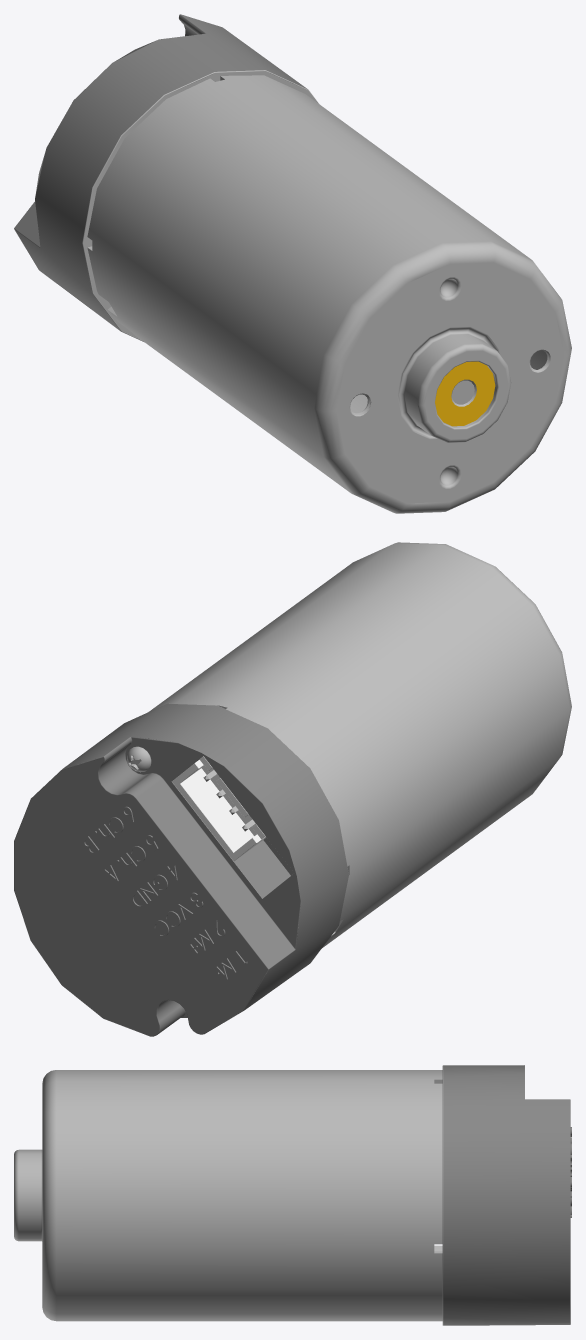
Rendered from Motor_Part.gltf.
The picture shows the model from 3 angles, top to bottom: view 1: azimuth 30°, elevation 25°; view 2: azimuth 150°, elevation 25°; view 3: azimuth 270°, elevation 25°; orthographic projection. The views are drawn at different scales.
Visible parts, largest first — view 1: mesh2844, mesh2820, mesh2875, mesh2821, mesh2812, mesh2815, mesh2873, mesh2817, mesh2816, mesh2818, mesh2874; view 2: mesh2844, mesh3040, mesh2875, mesh2899, mesh2911, mesh2929, mesh2918, mesh2906, mesh2821, mesh2924; view 3: mesh2844, mesh2875, mesh2821, mesh2817, mesh2874, mesh2816.
Boxes of the visible parts, x1,y1,x2,y2 form: mesh2844: (87,75,531,492); mesh2820: (336,262,563,503); mesh2875: (14,14,307,331); mesh2821: (314,241,571,513); mesh2812: (435,361,495,426); mesh2815: (425,351,508,439); mesh2873: (83,71,317,339); mesh2817: (404,334,495,434); mesh2816: (417,343,511,442); mesh2818: (398,328,496,436); mesh2874: (82,70,318,341); mesh2844: (149,543,569,947); mesh3040: (14,757,267,1035); mesh2875: (63,703,348,1009); mesh2899: (137,779,294,968); mesh2911: (125,738,300,947); mesh2929: (180,768,254,852); mesh2918: (172,782,290,898); mesh2906: (99,745,147,794); mesh2821: (394,542,571,756); mesh2924: (172,763,255,860); mesh2844: (56,1070,442,1321); mesh2875: (443,1065,569,1325); mesh2821: (42,1070,56,1320); mesh2817: (18,1149,40,1241); mesh2874: (442,1065,443,1325); mesh2816: (14,1150,18,1241).
Size of the model in its own units: 0.0369 by 0.0369 by 0.079.
